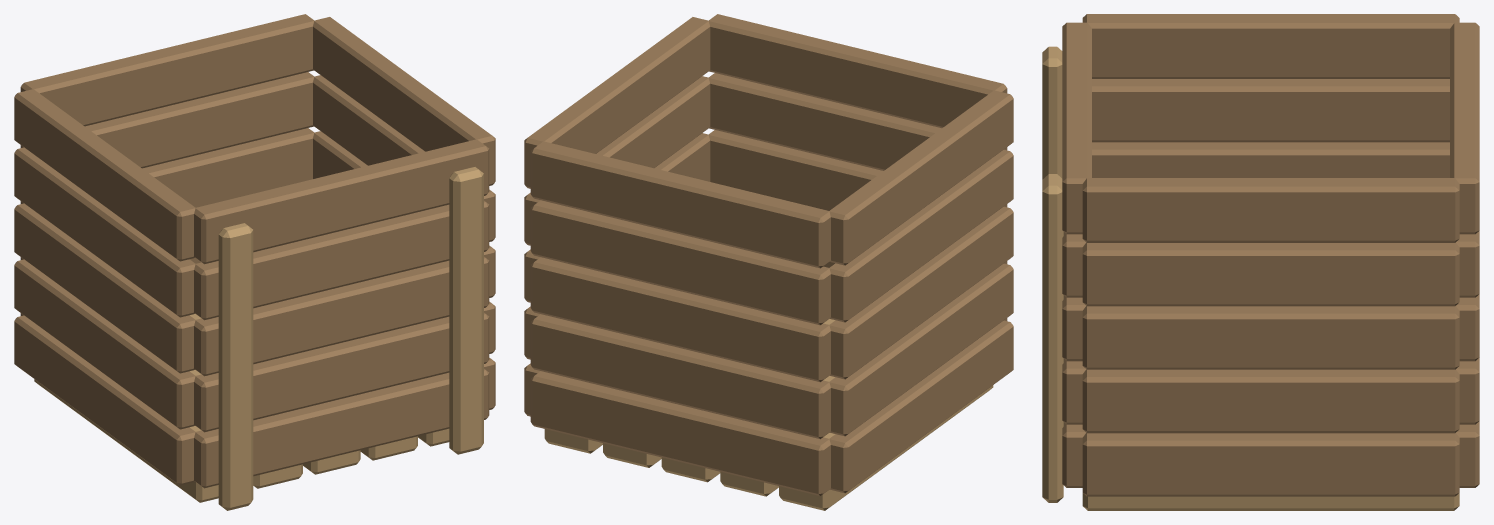
The model's file is crate.glb.
3 renders of one model, left to right at view 1: azimuth 30°, elevation 25°; view 2: azimuth 150°, elevation 25°; view 3: azimuth 270°, elevation 25°, orthographic. The views are drawn at different scales.
Parts seen in each view (by area): view 1: crate; view 2: crate; view 3: crate.
Part boxes in pixels (x1,y1,x2,y2): crate: (14, 14, 495, 510); crate: (524, 14, 1013, 510); crate: (1042, 14, 1479, 510).
Size of the model in its own units: 0.775 by 0.6875 by 0.8125.
